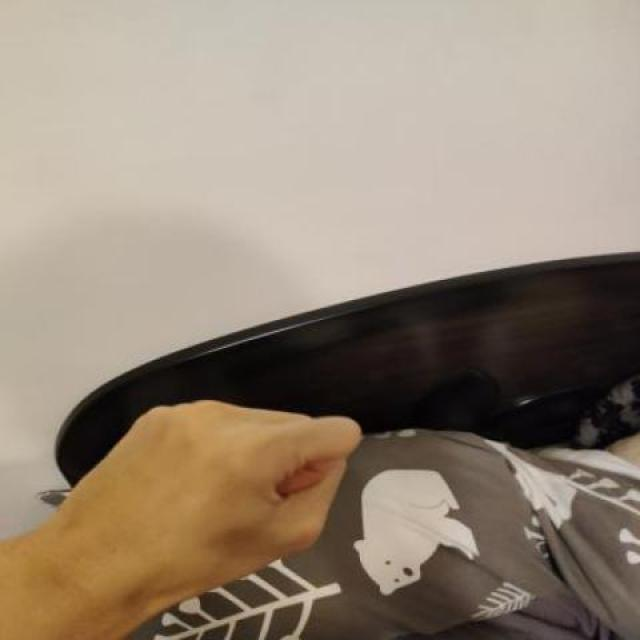Closed Hand: (62, 395, 363, 608)
